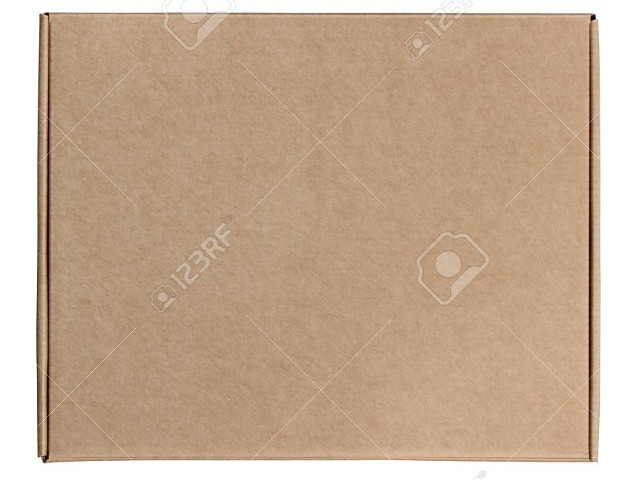cardboard: (40, 14, 598, 456)
